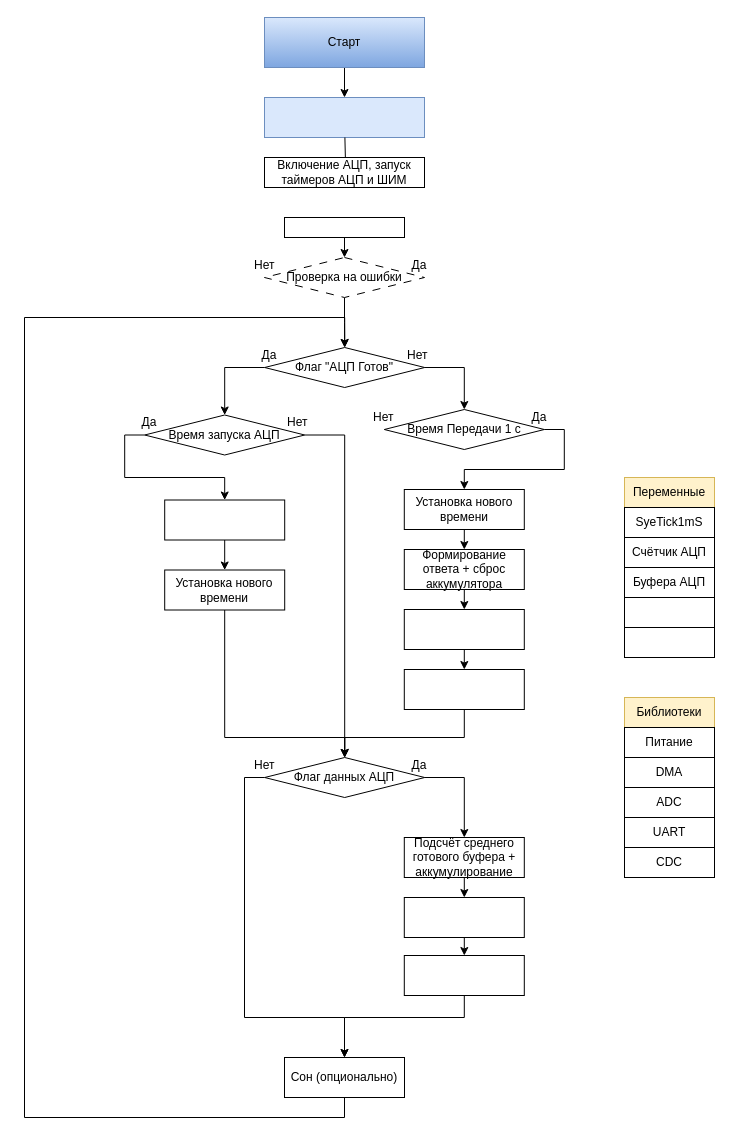
Image size: 732x1143. Some labels were removed from this diagram. Here are the shapes that lost their labels. From the top down, the centre of each, then its label:
(x=344, y=117): Инициализация / самотестирование
(x=344, y=227): Задержка >100 мс
(x=224, y=519): Запус АЦП ПДП
(x=463, y=629): Отправка на передачу + аккумулирование
(x=463, y=689): Вывод на отладку
(x=463, y=917): Установка и запуск ШИМ
(x=463, y=975): Сброс флага "Данных АЦП"
